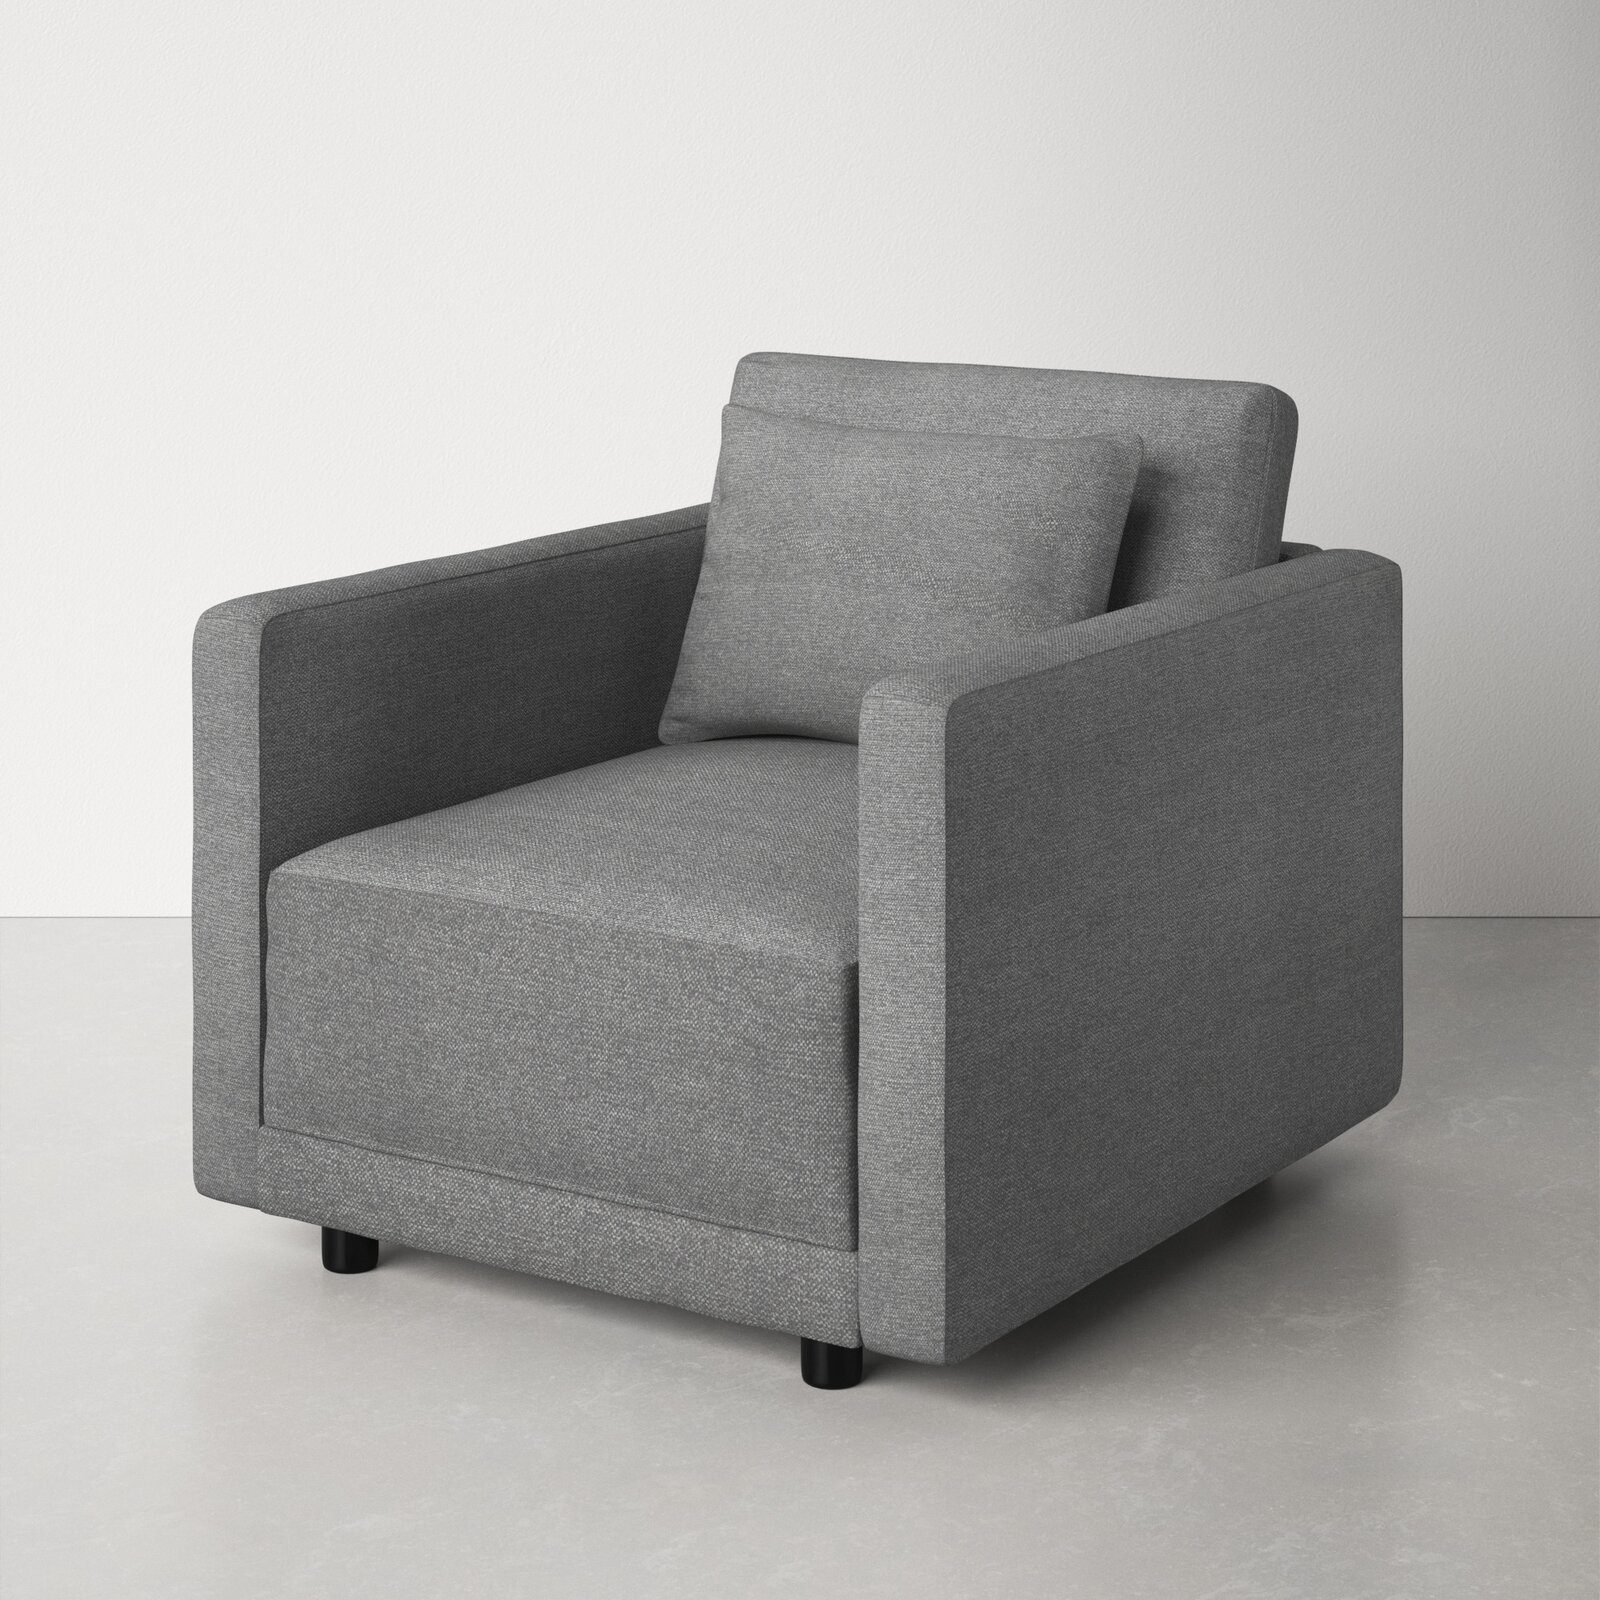obstacle: (193, 355, 1401, 1360)
